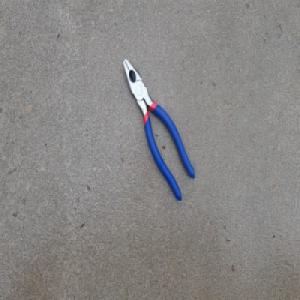Pliers: (120, 56, 195, 203)
